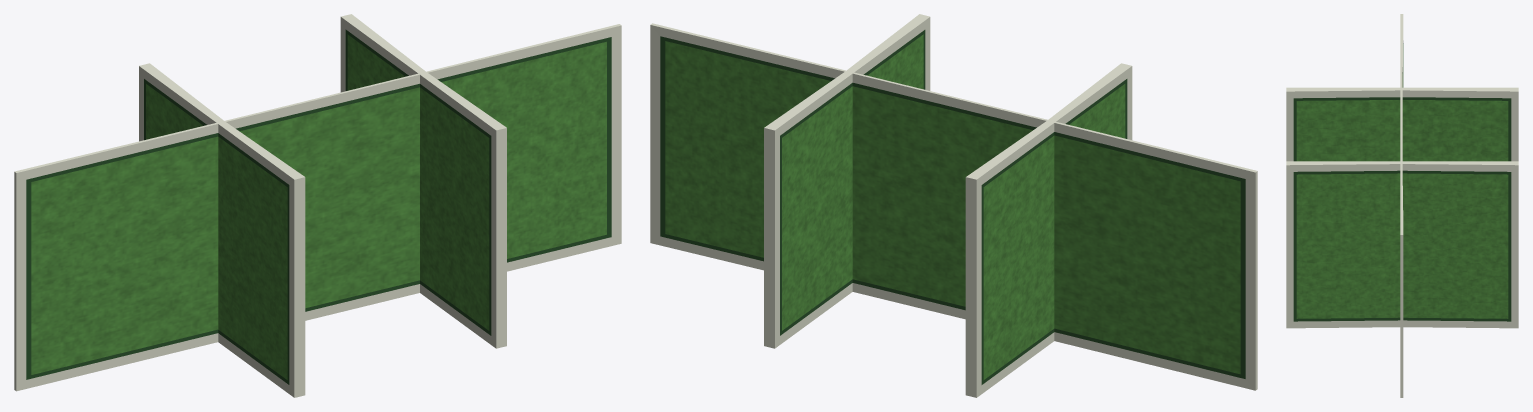
Rendered from cubicle.fbx.
The picture shows the model from 3 angles, left to right: view 1: azimuth 30°, elevation 25°; view 2: azimuth 150°, elevation 25°; view 3: azimuth 270°, elevation 25°; orthographic projection. The views are drawn at different scales.
Visible parts, largest first — view 1: Cubicles; view 2: Cubicles; view 3: Cubicles.
Boxes of the visible parts, left/top/right/bottom form: Cubicles: left=14, top=14, right=621, bottom=397; Cubicles: left=650, top=14, right=1257, bottom=397; Cubicles: left=1286, top=14, right=1518, bottom=397.
Bounding box in the file's own units: 581 × 200 × 258.
